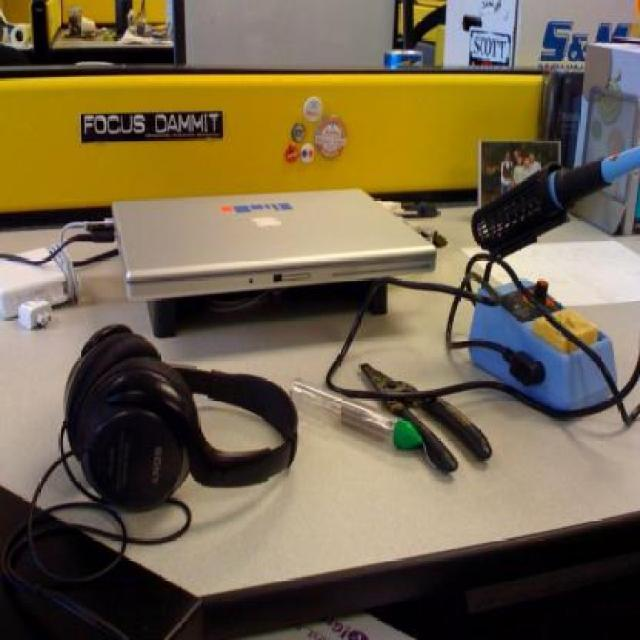earphone: (80, 334, 288, 534)
laptop_computer: (122, 177, 420, 320)
